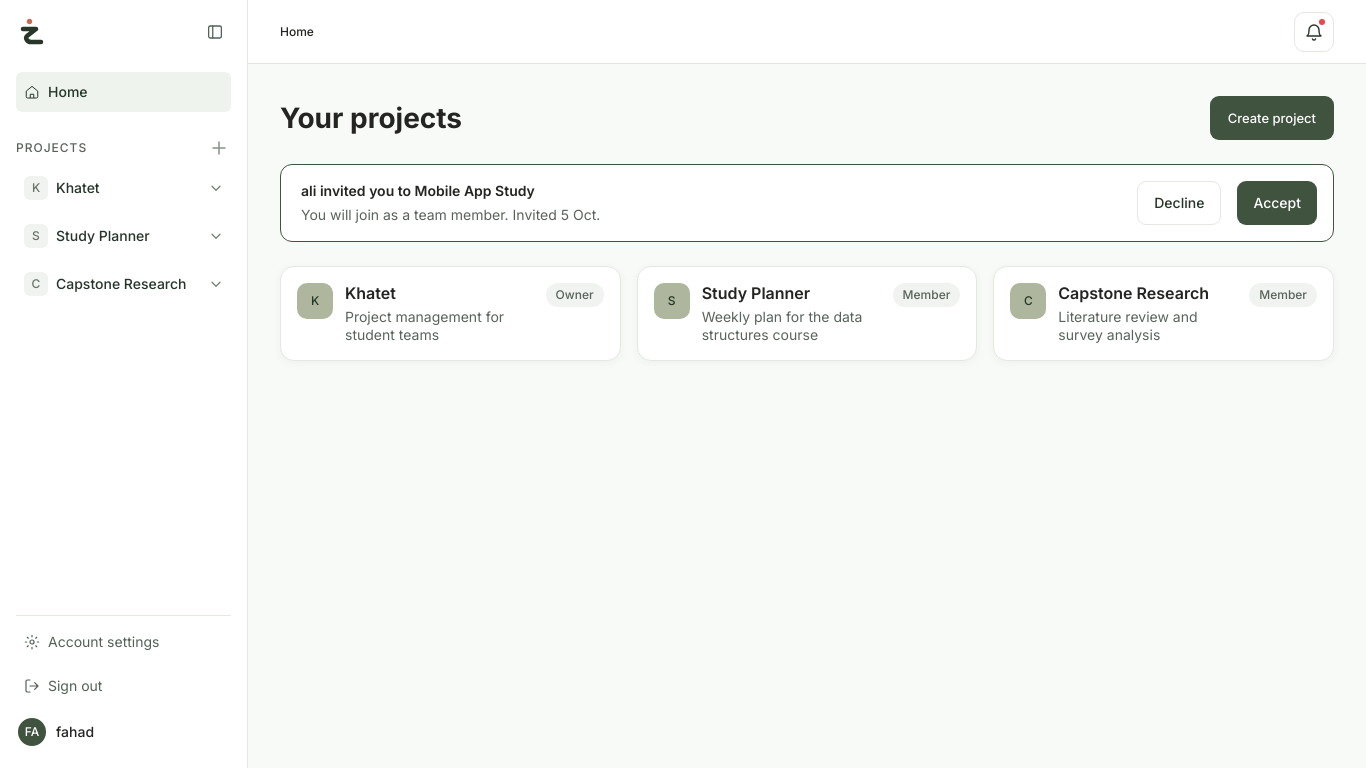
Test case: projects (US-04, US-05) › creates a project and makes the creator its owner
Click the button "Create project".
click(1272, 118)  # box [1210,96,1334,140]
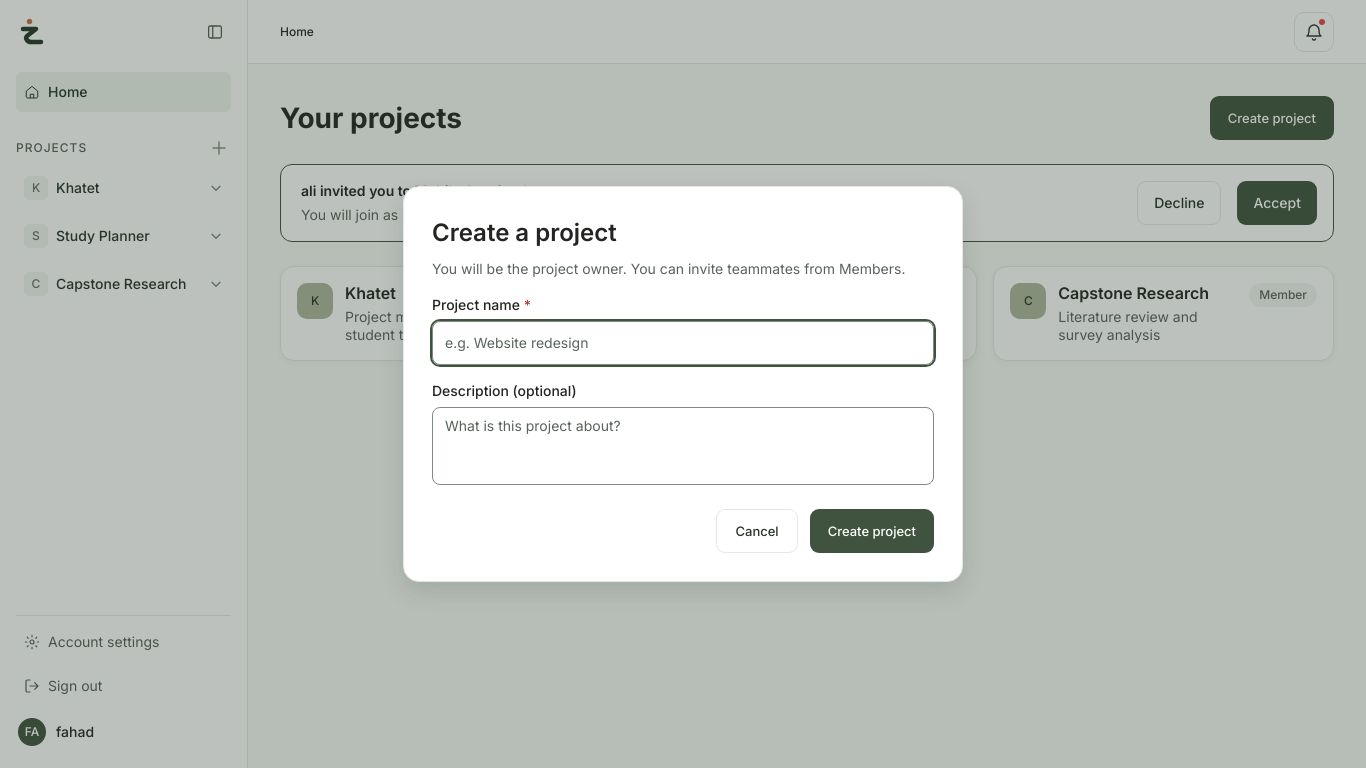
Click the button "Create project".
click(872, 531)  # box [810,509,934,553]
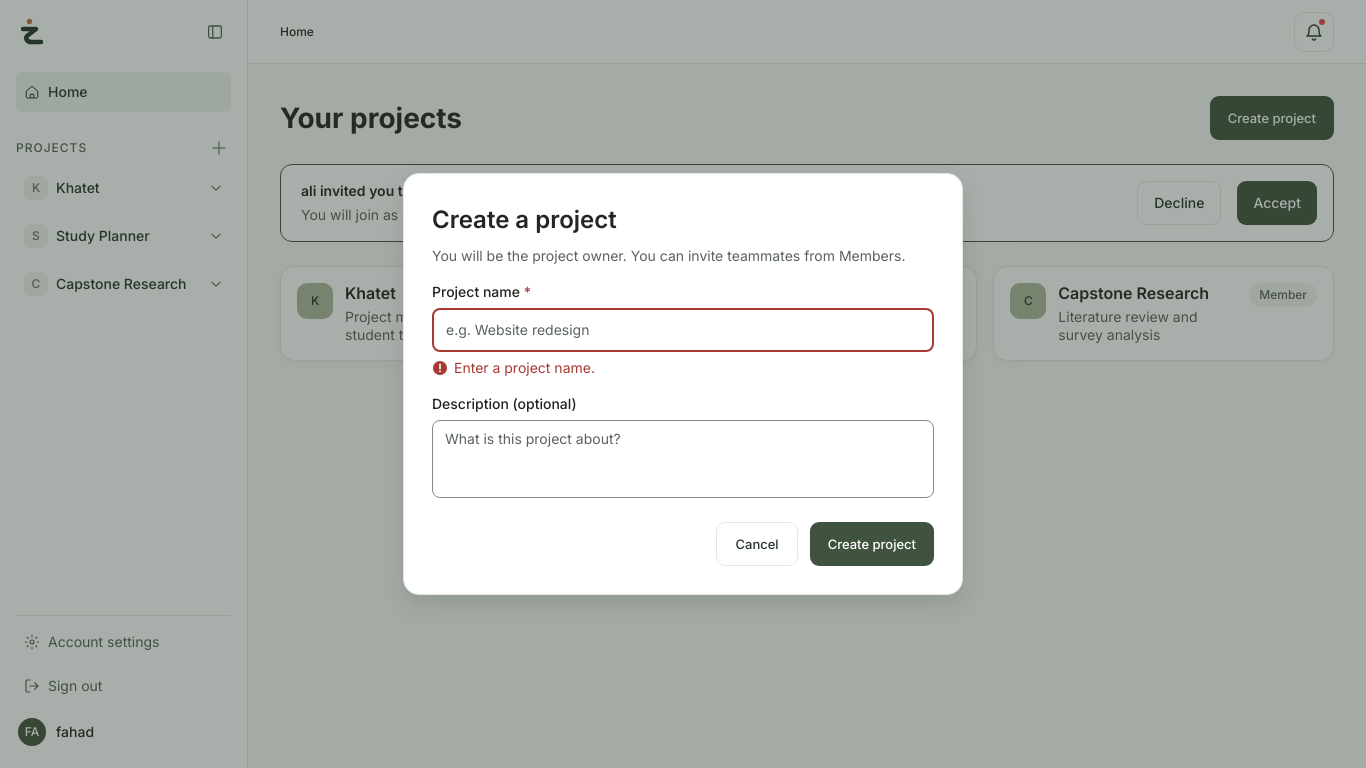
Expected: the text "Enter a project name." is shown, [432,359,595,376]
Type "Thesis" into the field labelled "Project name *".
click(683, 330); type("Thesis")  # box [432,308,934,352]
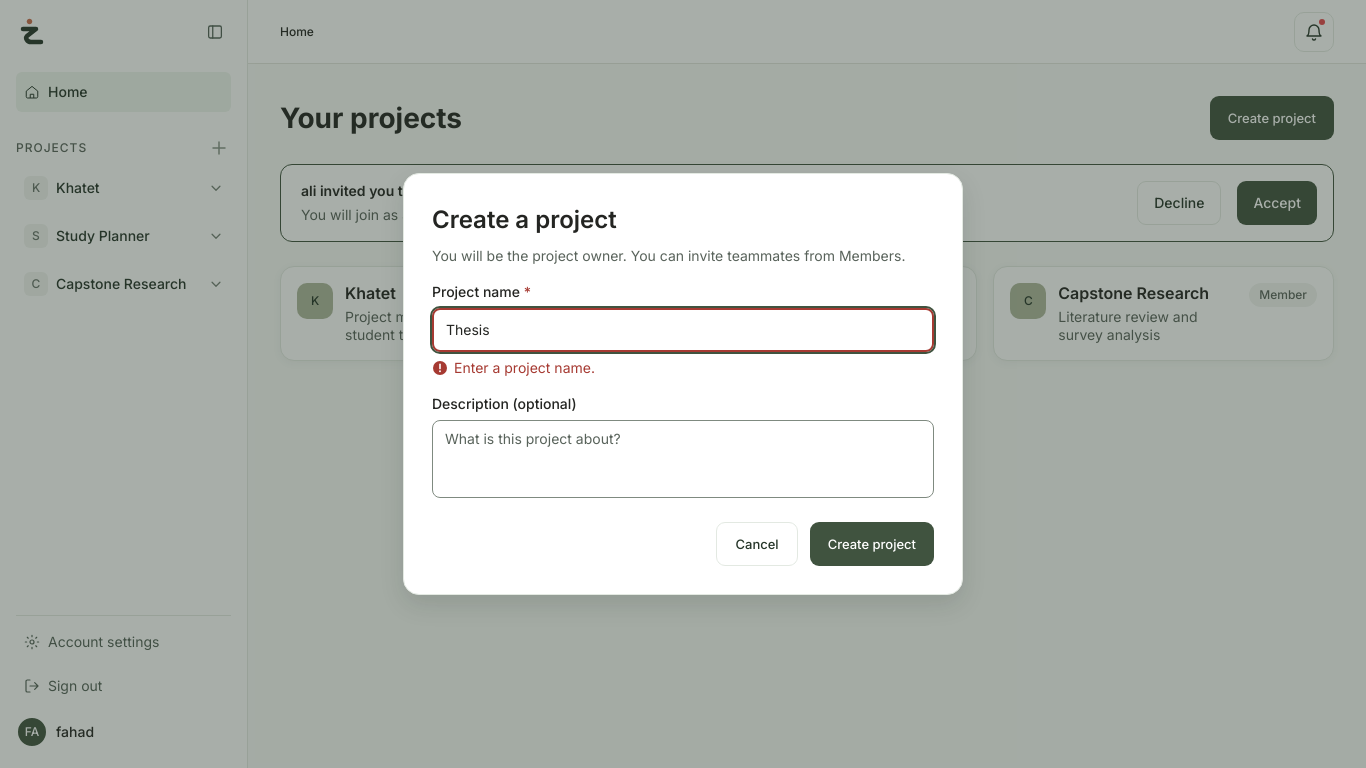
Click the button "Create project".
click(872, 544)  # box [810,522,934,566]
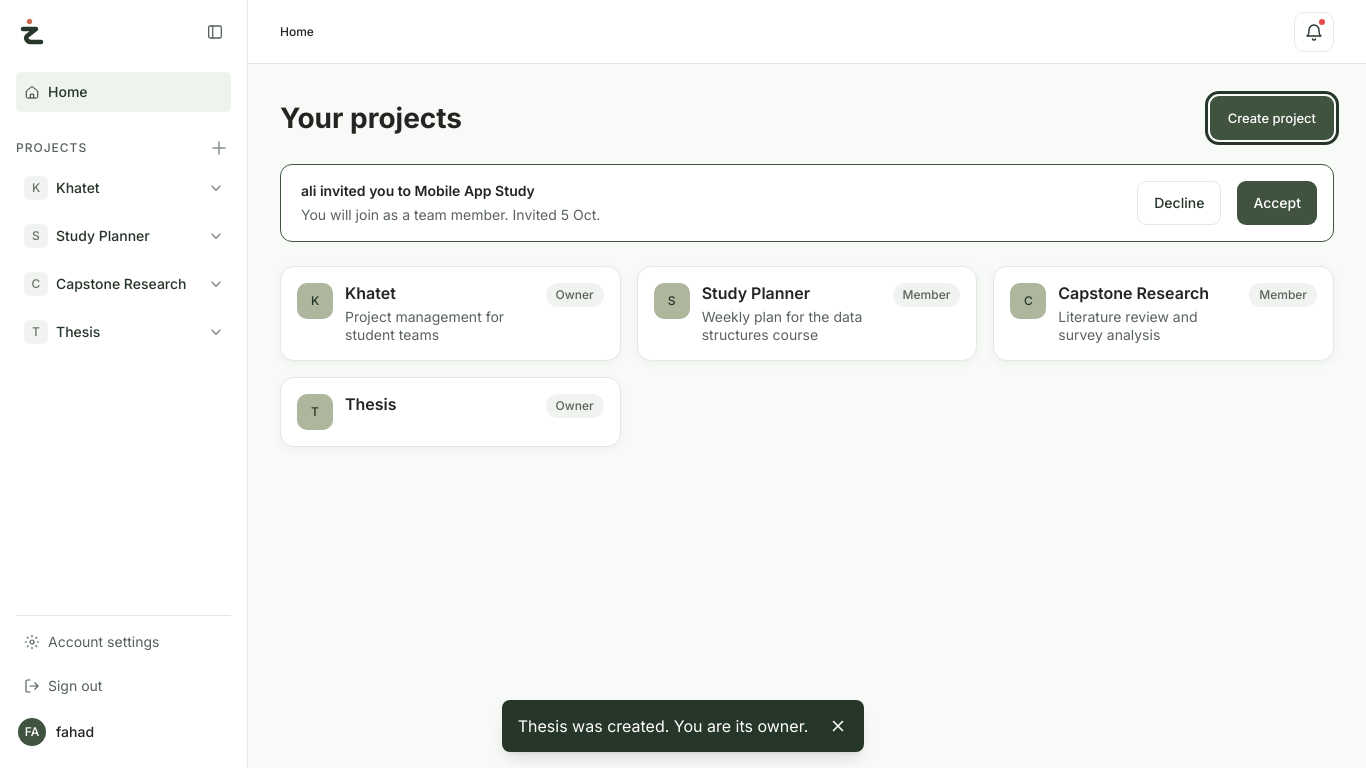
Expected: the link "T Thesis Owner" is shown, [280,377,621,447]
